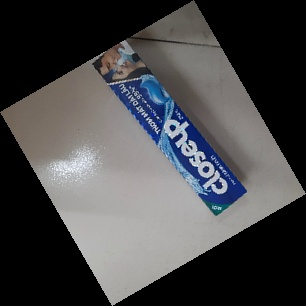CloseUp Tuyet: (87, 39, 248, 219)
